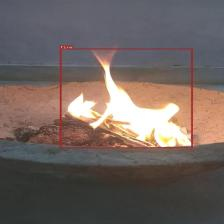fire: (60, 48, 192, 148)
